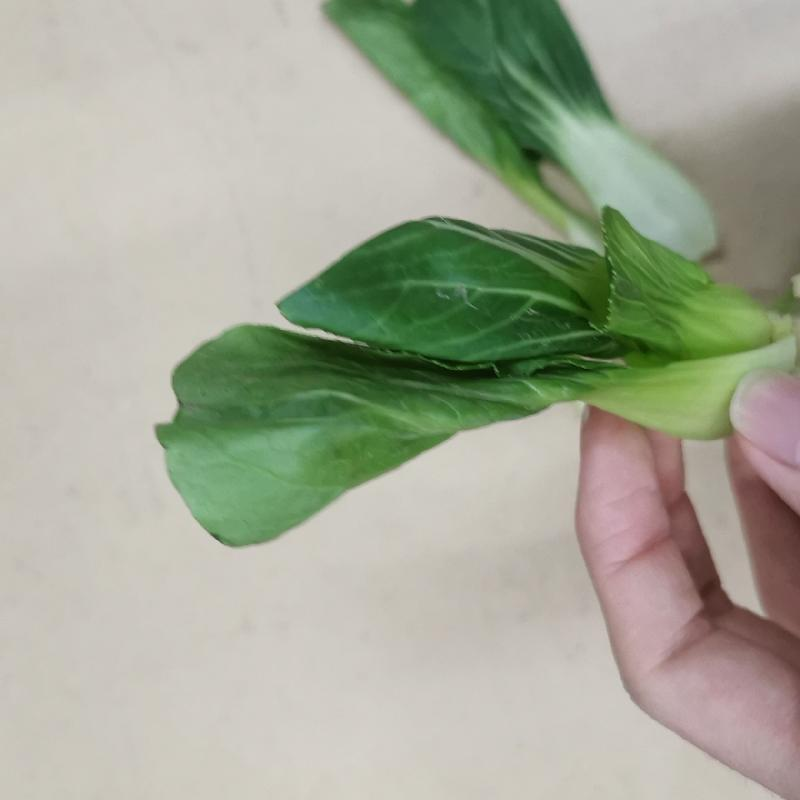green vegatable: (152, 213, 799, 547)
